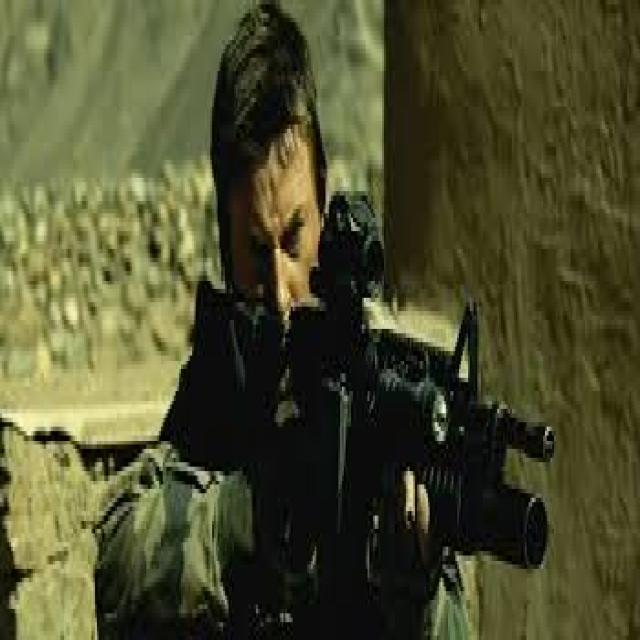Rifle: (191, 204, 560, 640)
